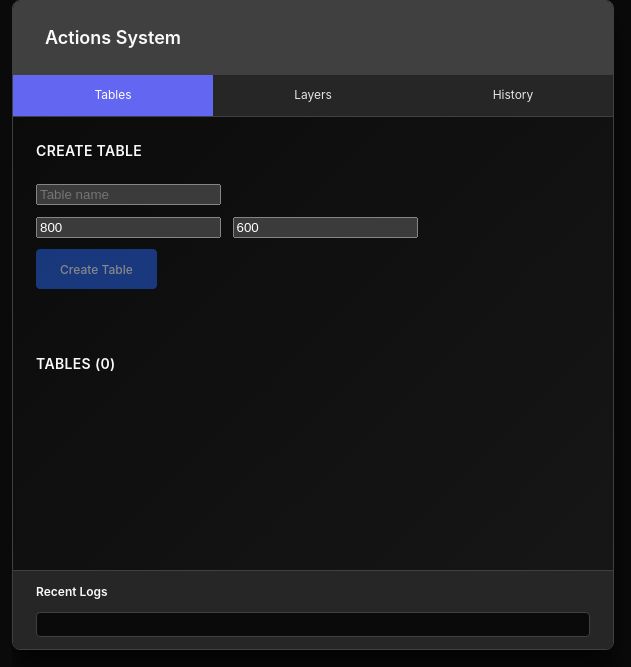
Test: ActionsPanel — Layers tab › switches to Layers tab and shows layer checkboxes
Click the button "Layers". click: (313, 96)
box: top-left (213, 75), bottom-right (413, 116)
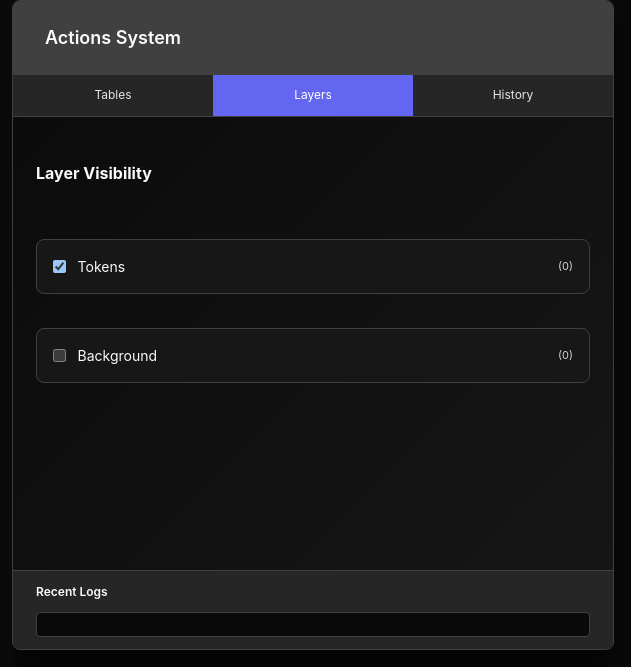
Check: the text "tokens" is shown, box top-left (78, 256), bottom-right (125, 277)
Check: the text "background" is shown, box top-left (78, 345), bottom-right (157, 366)
